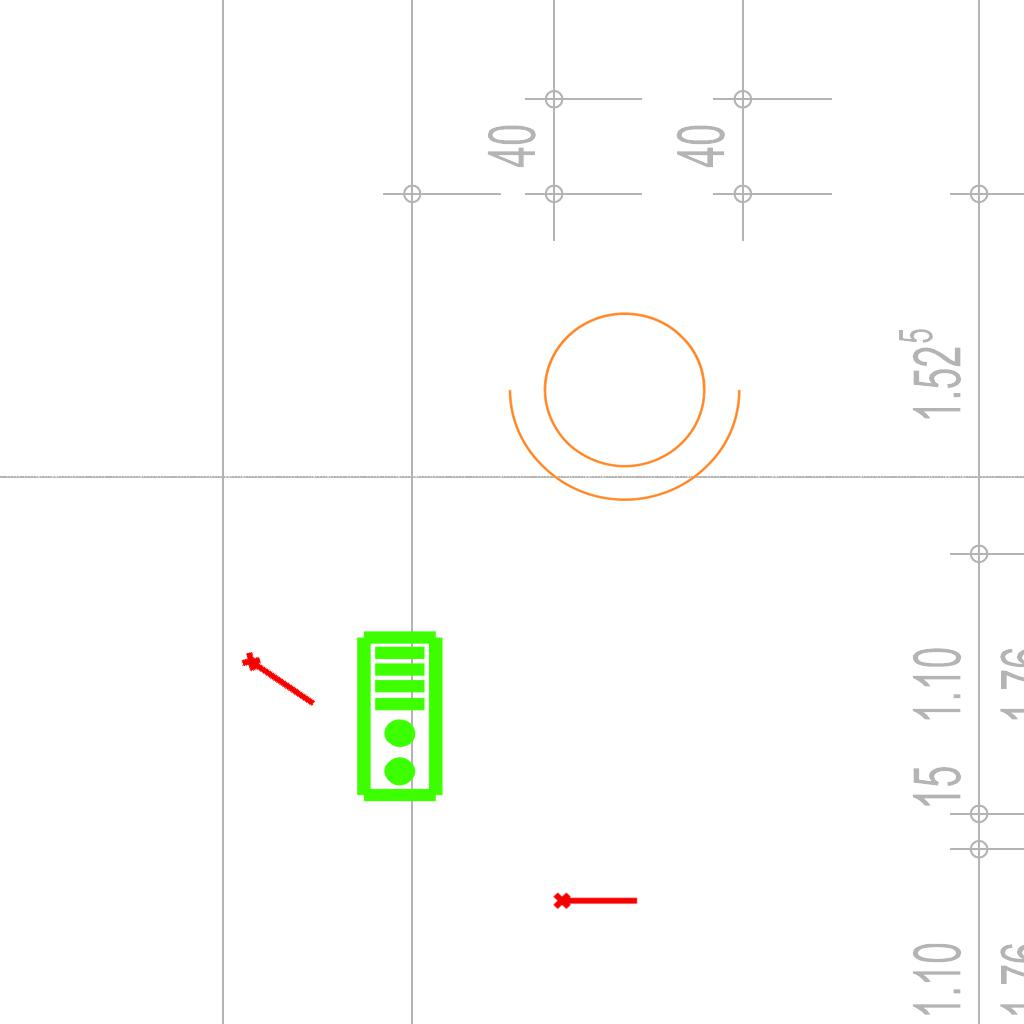ASR_Ansaugoeffnung: (237, 645, 323, 714), (552, 888, 640, 911)
Gegensprechanlage_mit_Video: (354, 629, 449, 805)
Scheinwerfer_fuer_Alarmbeleuchtung: (499, 287, 763, 512)
